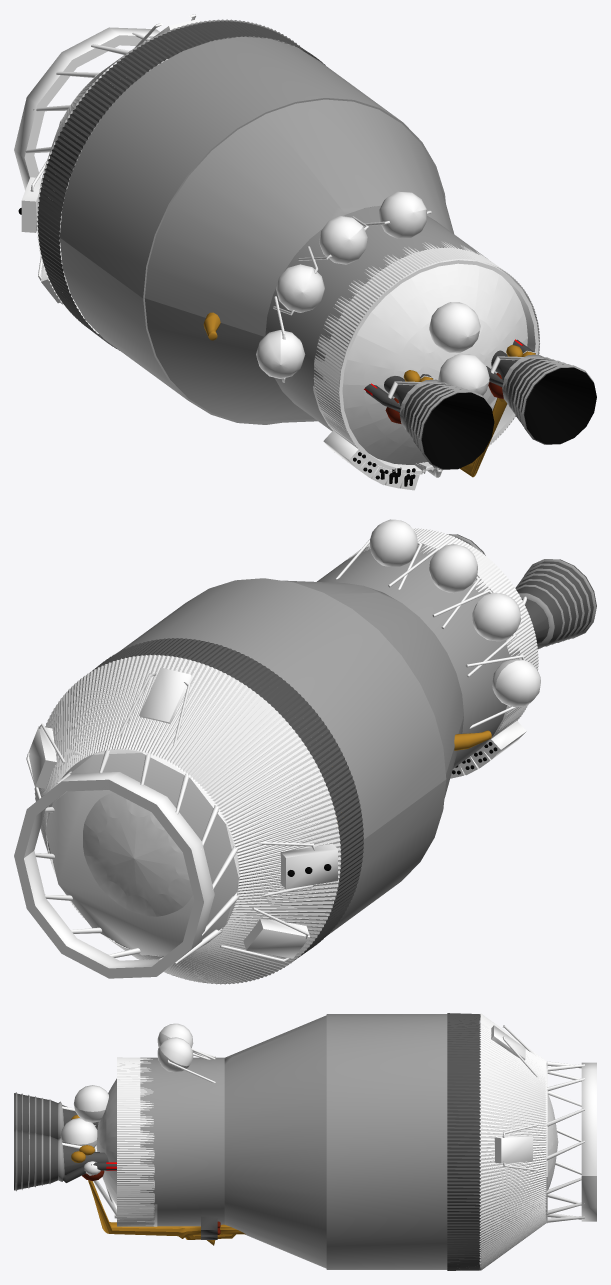
File: cvel-centaurg.obj
The picture shows the model from 3 angles, top to bottom: view 1: azimuth 30°, elevation 25°; view 2: azimuth 150°, elevation 25°; view 3: azimuth 270°, elevation 25°; orthographic projection. The views are drawn at different scales.
Parts seen in each view (by area): view 1: group1777, group253, group2926, group3053, group1203, group2433, group2422, group68, group2445, group3123, group3126, group2140 (+6 smaller); view 2: group253, group1071, group1203, group3053, group1070, group1777, group2421, group1186, group2140, group3126, group3123, group2143 (+4 smaller); view 3: group253, group1777, group3053, group2432, group1203, group2421, group2442, group2926, group2445, group1174, group2143, group2441 (+3 smaller).
Boxes of the visible parts, x1=… form: group1777: x1=144, y1=99, x2=453, y2=423; group253: x1=59, y1=36, x2=445, y2=424; group2926: x1=342, y1=263, x2=527, y2=464; group3053: x1=265, y1=205, x2=497, y2=430; group1203: x1=14, y1=27, x2=159, y2=190; group2433: x1=524, y1=367, x2=596, y2=444; group2422: x1=422, y1=392, x2=494, y2=469; group68: x1=313, y1=259, x2=538, y2=474; group2445: x1=429, y1=302, x2=480, y2=352; group3123: x1=256, y1=330, x2=305, y2=378; group3126: x1=276, y1=264, x2=324, y2=312; group2140: x1=319, y1=216, x2=367, y2=264; group253: x1=118, y1=578, x2=446, y2=935; group1071: x1=45, y1=749, x2=239, y2=955; group1203: x1=14, y1=772, x2=214, y2=978; group3053: x1=285, y1=543, x2=520, y2=768; group1070: x1=46, y1=754, x2=210, y2=956; group1777: x1=283, y1=580, x2=463, y2=863; group2421: x1=516, y1=559, x2=596, y2=644; group1186: x1=280, y1=843, x2=337, y2=889; group2140: x1=429, y1=544, x2=477, y2=593; group3126: x1=472, y1=593, x2=520, y2=641; group3123: x1=492, y1=659, x2=540, y2=706; group2143: x1=370, y1=519, x2=417, y2=566; group253: x1=326, y1=1014, x2=447, y2=1269; group1777: x1=224, y1=1015, x2=326, y2=1268; group3053: x1=140, y1=1057, x2=224, y2=1226; group2432: x1=14, y1=1129, x2=108, y2=1190; group1203: x1=581, y1=1062, x2=596, y2=1221; group2421: x1=14, y1=1093, x2=98, y2=1139; group2442: x1=88, y1=1180, x2=245, y2=1238; group2926: x1=96, y1=1078, x2=116, y2=1205; group2445: x1=74, y1=1085, x2=108, y2=1122; group1174: x1=494, y1=1135, x2=532, y2=1163; group2143: x1=157, y1=1037, x2=193, y2=1072; group2441: x1=60, y1=1118, x2=97, y2=1147.
Size of what is drawn, in the model's own units: 4.28 by 4.2 by 9.5.
